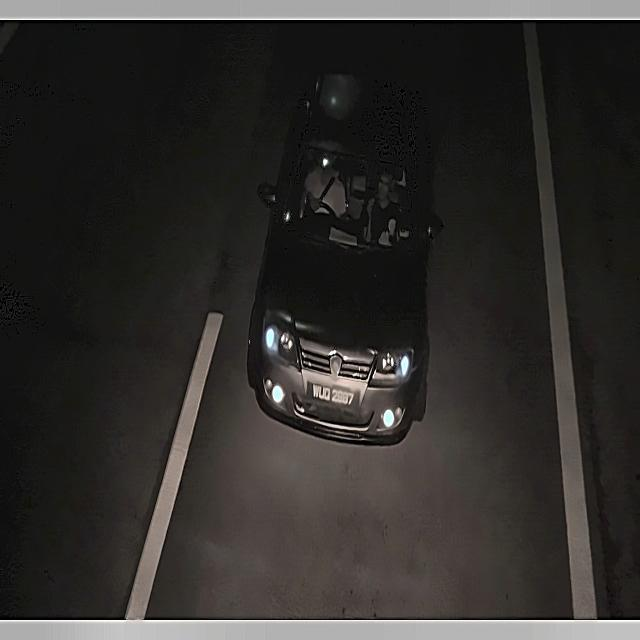car: (302, 377, 358, 419)
